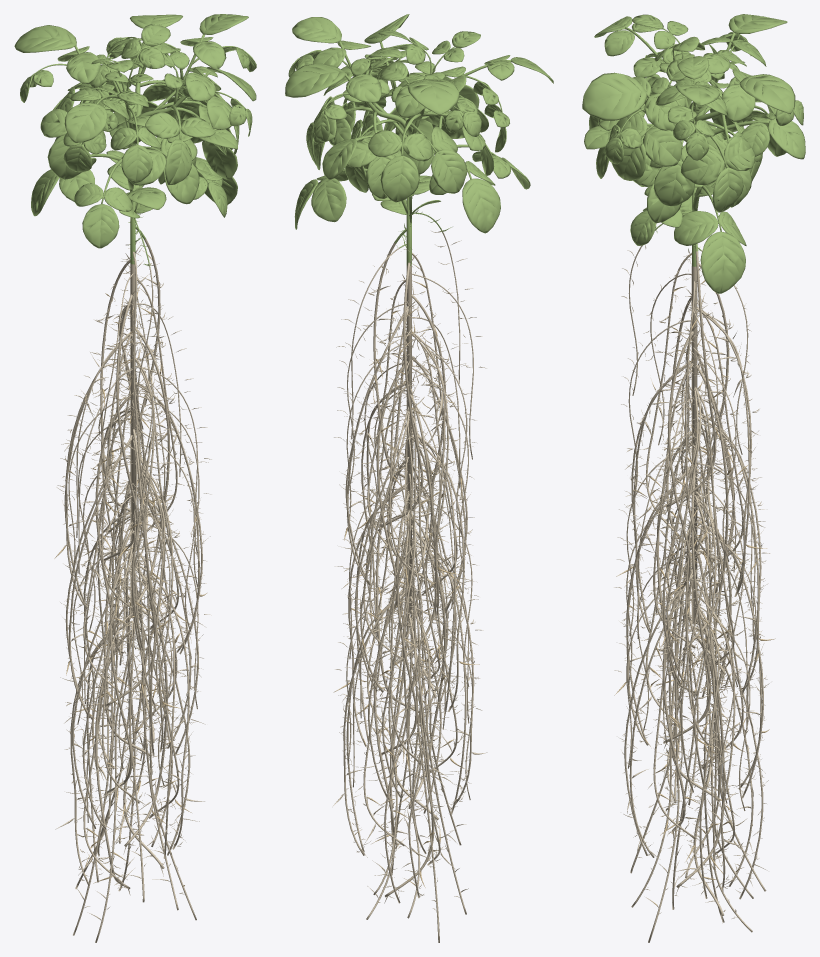
The model's file is potato02-web.glb.
The picture shows the model from 3 angles, left to right: view 1: azimuth 30°, elevation 25°; view 2: azimuth 150°, elevation 25°; view 3: azimuth 270°, elevation 25°; orthographic projection. The views are drawn at different scales.
Visible parts, largest first — view 1: roots, shoot, root-details; view 2: roots, shoot, root-details; view 3: roots, shoot, root-details.
Part boxes in pixels (x1,y1,x2,y2): roots: (55,238,211,942); shoot: (14,14,256,267); root-details: (54,250,206,887); roots: (332,230,487,942); shoot: (285,14,553,265); root-details: (333,266,479,887); roots: (614,245,770,942); shoot: (582,14,805,293); root-details: (614,280,775,907).
Size of the model in its own units: 0.4797 by 1.83 by 0.407.
